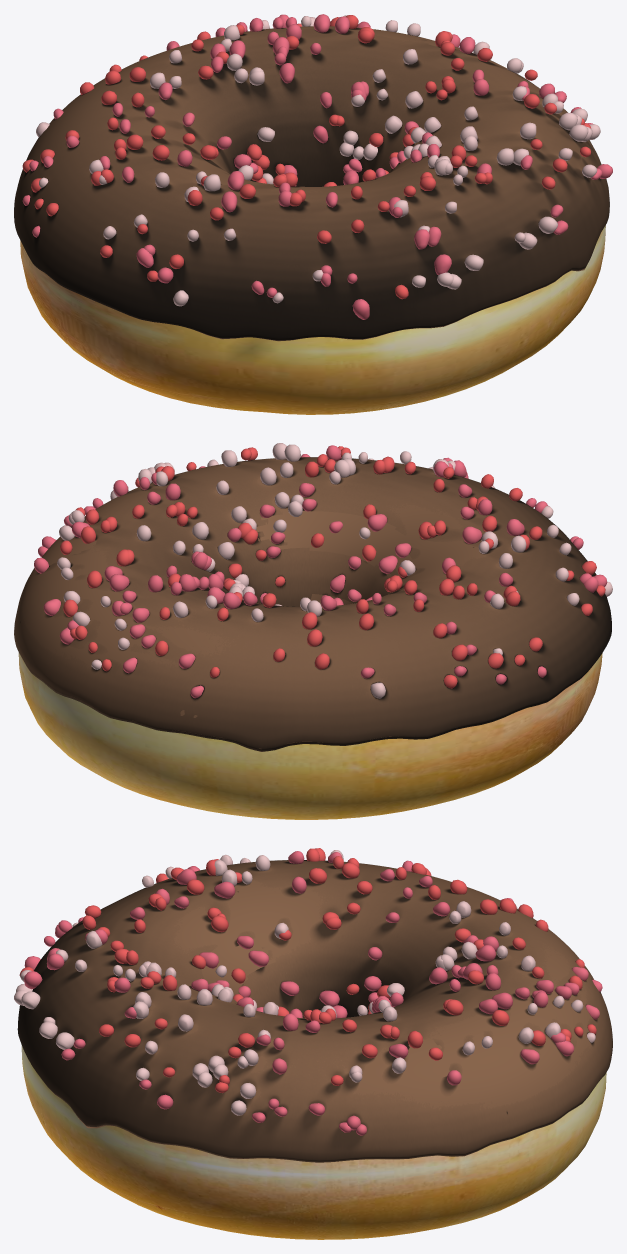
The model's file is coffee rad and white.glb.
3 renders of one model, top to bottom at view 1: azimuth 30°, elevation 25°; view 2: azimuth 150°, elevation 25°; view 3: azimuth 270°, elevation 25°, orthographic. The views are drawn at different scales.
Parts seen in each view (by area): view 1: coffee, coffee.001, Torus, red and white; view 2: coffee, coffee.001, Torus, red and white; view 3: coffee, coffee.001, Torus, red and white.
Part boxes in pixels (box(x1,y1,x2,y2)): coffee: box(14, 26, 609, 341); coffee.001: box(14, 26, 609, 340); Torus: box(20, 225, 605, 414); red and white: box(22, 14, 612, 319); coffee: box(14, 457, 611, 751); coffee.001: box(14, 457, 611, 751); Torus: box(18, 652, 602, 819); red and white: box(34, 443, 612, 698); coffee: box(18, 860, 612, 1162); coffee.001: box(17, 860, 612, 1162); Torus: box(21, 1045, 606, 1239); red and white: box(14, 848, 602, 1135).
Size of the model in its own units: 0.2003 by 0.0774 by 0.1991.
Materials: 6 (2 with a texture image).
